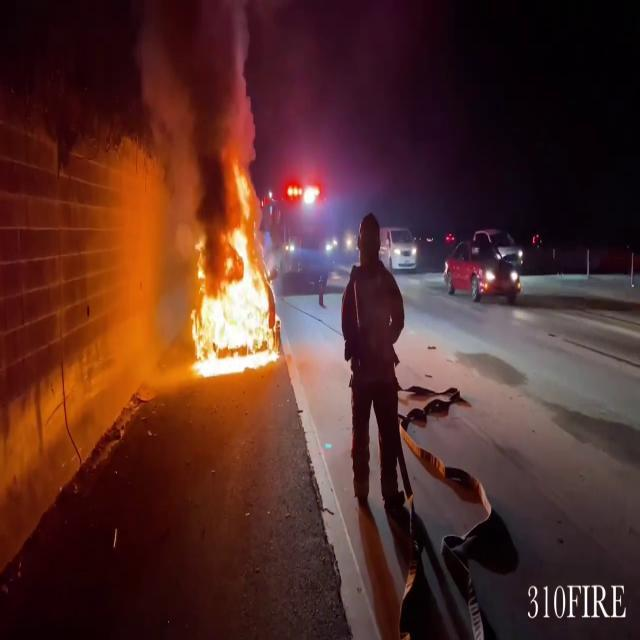Fire: (181, 216, 285, 380)
Smoke: (114, 0, 260, 245)
